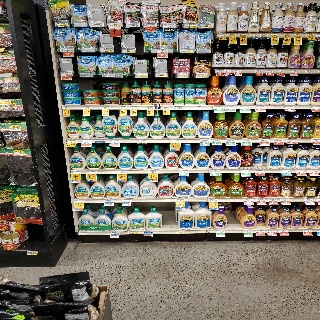All PRICE TAGS: (181, 48, 194, 53), (126, 22, 139, 27), (201, 23, 213, 28), (213, 105, 225, 110), (157, 48, 168, 53), (163, 23, 176, 27), (177, 73, 189, 77), (71, 170, 82, 174), (94, 139, 105, 143), (295, 169, 306, 173), (283, 105, 294, 109), (0, 101, 11, 105), (211, 139, 222, 143), (26, 251, 37, 255), (110, 24, 121, 28), (144, 23, 155, 27), (61, 71, 72, 75), (104, 73, 115, 77), (136, 73, 147, 77), (175, 198, 185, 202), (179, 169, 189, 173), (87, 170, 97, 174), (200, 139, 210, 143), (137, 139, 147, 143), (110, 139, 120, 143), (82, 139, 92, 143), (304, 198, 314, 202), (241, 139, 251, 143), (225, 139, 235, 143), (241, 169, 251, 173), (280, 198, 290, 202), (208, 198, 218, 202), (186, 22, 196, 26), (111, 231, 120, 235), (79, 231, 88, 235), (118, 170, 127, 174), (171, 139, 180, 143), (174, 106, 183, 110), (311, 105, 320, 109), (269, 198, 278, 202), (267, 229, 276, 233), (216, 229, 225, 233), (61, 48, 73, 51), (74, 199, 85, 202), (254, 106, 265, 109), (239, 106, 250, 109), (280, 170, 291, 173), (91, 22, 102, 25), (265, 69, 273, 73), (306, 33, 314, 37), (283, 33, 291, 37), (271, 33, 279, 37), (250, 33, 258, 37), (218, 33, 226, 37), (83, 106, 91, 110), (102, 106, 110, 110), (146, 106, 154, 110), (143, 231, 153, 234), (122, 199, 132, 202), (104, 199, 114, 202), (148, 170, 158, 173), (67, 139, 77, 142), (308, 169, 318, 172), (286, 139, 296, 142), (225, 106, 235, 109), (259, 139, 269, 142), (210, 169, 220, 172), (256, 198, 266, 201), (195, 106, 202, 110), (305, 69, 312, 73), (290, 69, 297, 73), (234, 69, 241, 73), (224, 69, 231, 73), (120, 106, 127, 110), (131, 106, 138, 110), (162, 106, 169, 110), (303, 229, 312, 232), (311, 139, 320, 142), (293, 34, 302, 37), (273, 139, 282, 142), (279, 229, 288, 232), (256, 230, 265, 233), (244, 230, 253, 233), (176, 231, 185, 234), (197, 73, 206, 76), (129, 231, 137, 234), (276, 70, 284, 73), (255, 70, 263, 73), (260, 34, 268, 37), (239, 34, 247, 37), (228, 34, 236, 37), (63, 106, 71, 109), (216, 69, 223, 72), (254, 170, 264, 172), (243, 199, 253, 201), (316, 229, 320, 232)
